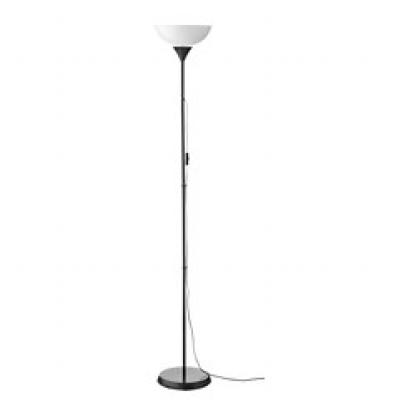Lamp: (120, 10, 236, 393)
